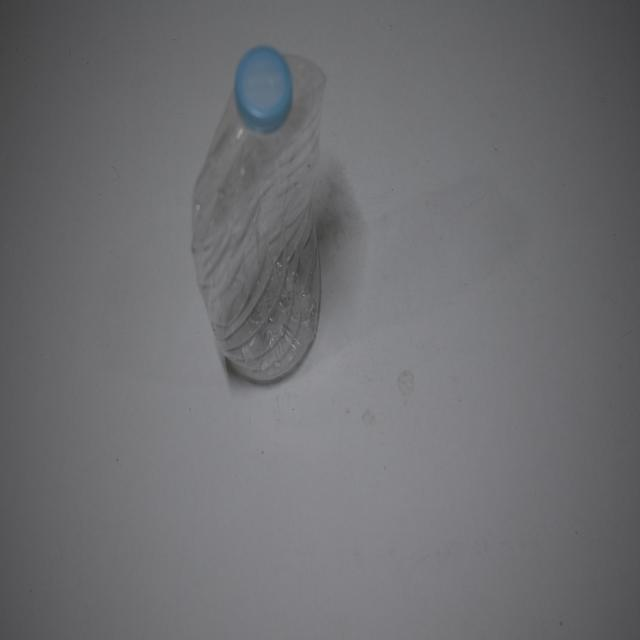bottle: (188, 43, 328, 384)
